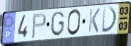4: (17, 14, 29, 40)
D: (101, 6, 119, 34)
G: (50, 10, 65, 37)
K: (87, 8, 101, 34)
O: (66, 9, 82, 37)
P: (30, 12, 47, 40)
